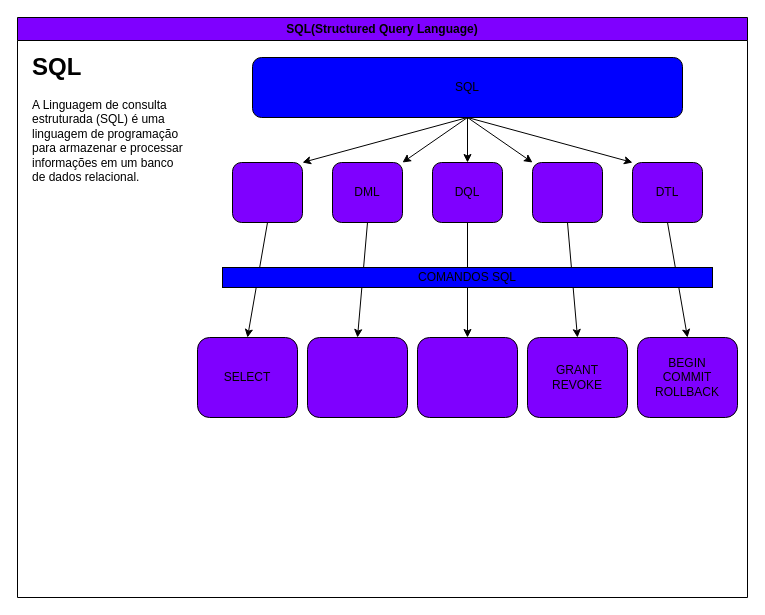
Some shapes in this 765 by 615 pixel diagram are drawn without their labels. The shapes that lost their labels are listed below. From the top down, each one's centre as x and y in pixels, then its label:
At [267,192]: "DDL".
At [567,192]: "DCL".
At [357,377]: "INSERT UPDATE DELETE".
At [467,377]: "CREATE ALTER DROP".
